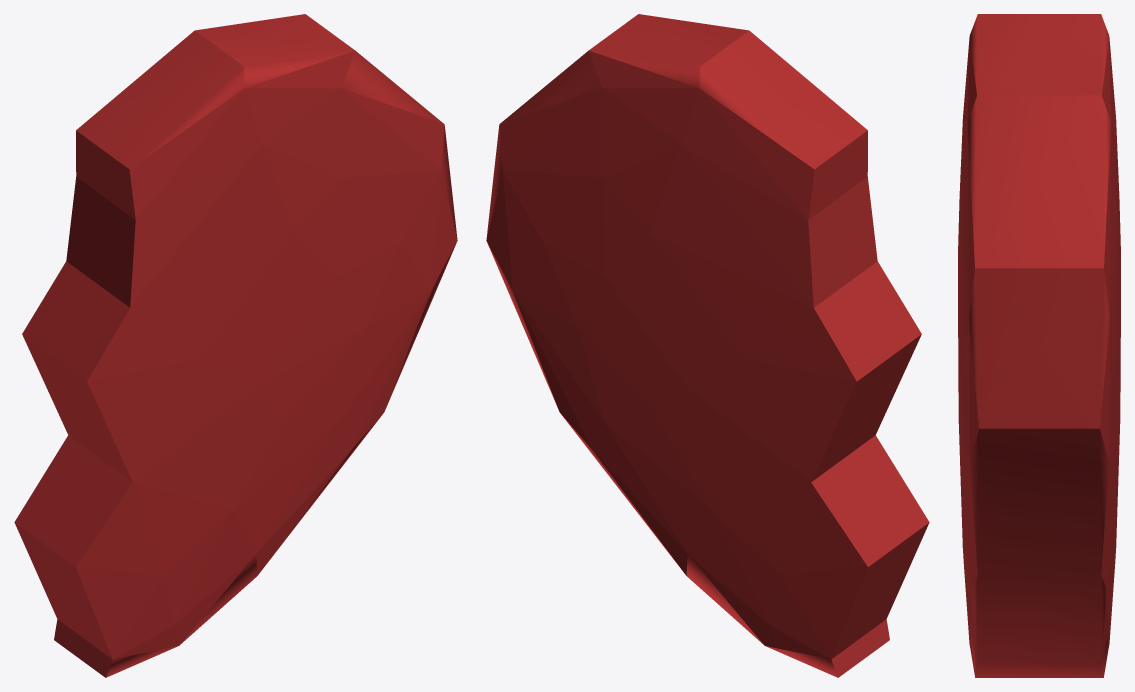
The model's file is heartnew1.fbx.
The picture shows the model from 3 angles, left to right: view 1: azimuth 30°, elevation 25°; view 2: azimuth 150°, elevation 25°; view 3: azimuth 270°, elevation 25°; orthographic projection. The views are drawn at different scales.
Parts seen in each view (by area): view 1: polySurface1; view 2: polySurface1; view 3: polySurface1.
Part boxes in pixels (left/top/right/bottom): polySurface1: left=14, top=14, right=457, bottom=677; polySurface1: left=486, top=14, right=929, bottom=677; polySurface1: left=958, top=14, right=1120, bottom=677.
Bounding box in the file's own units: 4.72 × 6.7 × 1.37.
